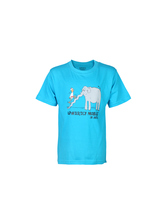clothoes: (35, 59, 134, 170)
